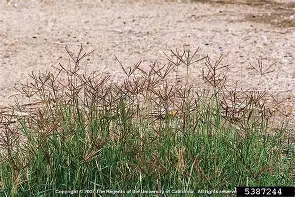weed: (0, 47, 294, 195), (190, 0, 294, 27)
